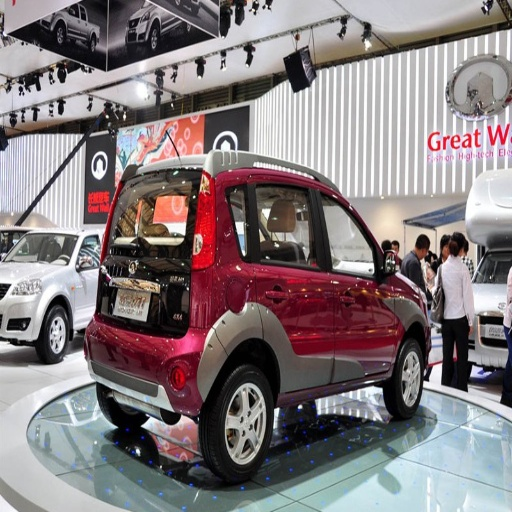back_bumper: (93, 330, 208, 408)
back_right_door: (226, 177, 336, 390)
trunk: (111, 235, 184, 373)
